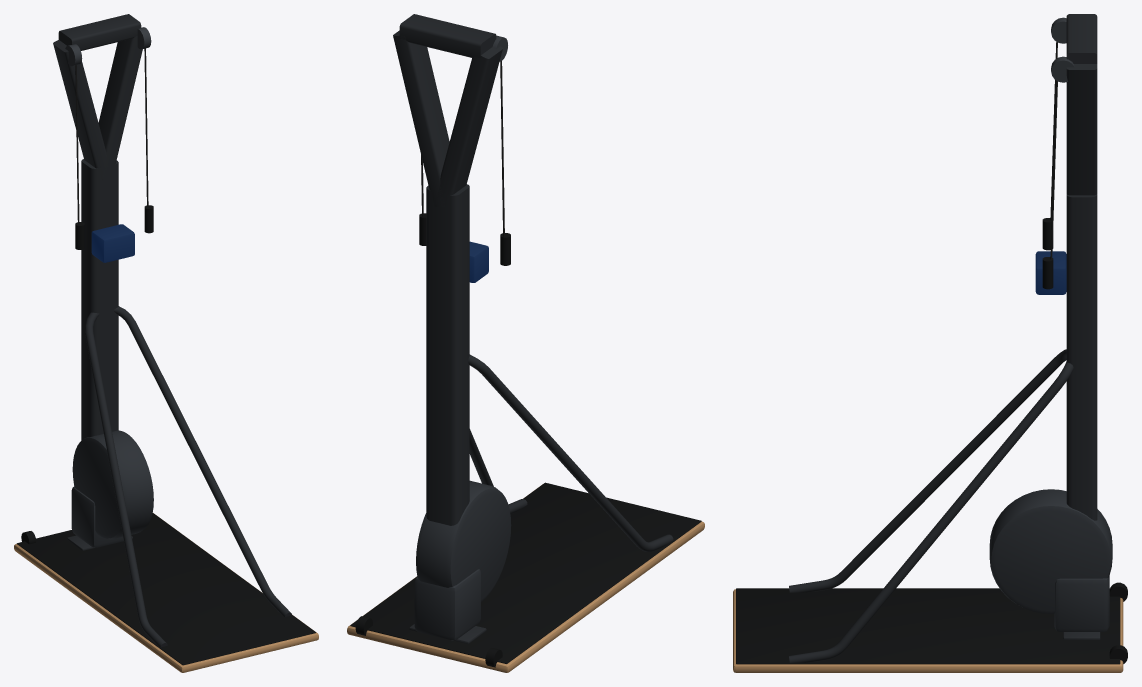
File: skierg.glb
The picture shows the model from 3 angles, left to right: view 1: azimuth 30°, elevation 25°; view 2: azimuth 150°, elevation 25°; view 3: azimuth 270°, elevation 25°; orthographic projection. The views are drawn at different scales.
Visible parts, largest first — view 1: skierg; view 2: skierg; view 3: skierg.
Boxes of the visible parts, <box> form: skierg: <box>14,14,318,672</box>; skierg: <box>347,14,704,672</box>; skierg: <box>733,14,1127,672</box>.
Size of the model in its own units: 0.6 by 2.16 by 1.28.
